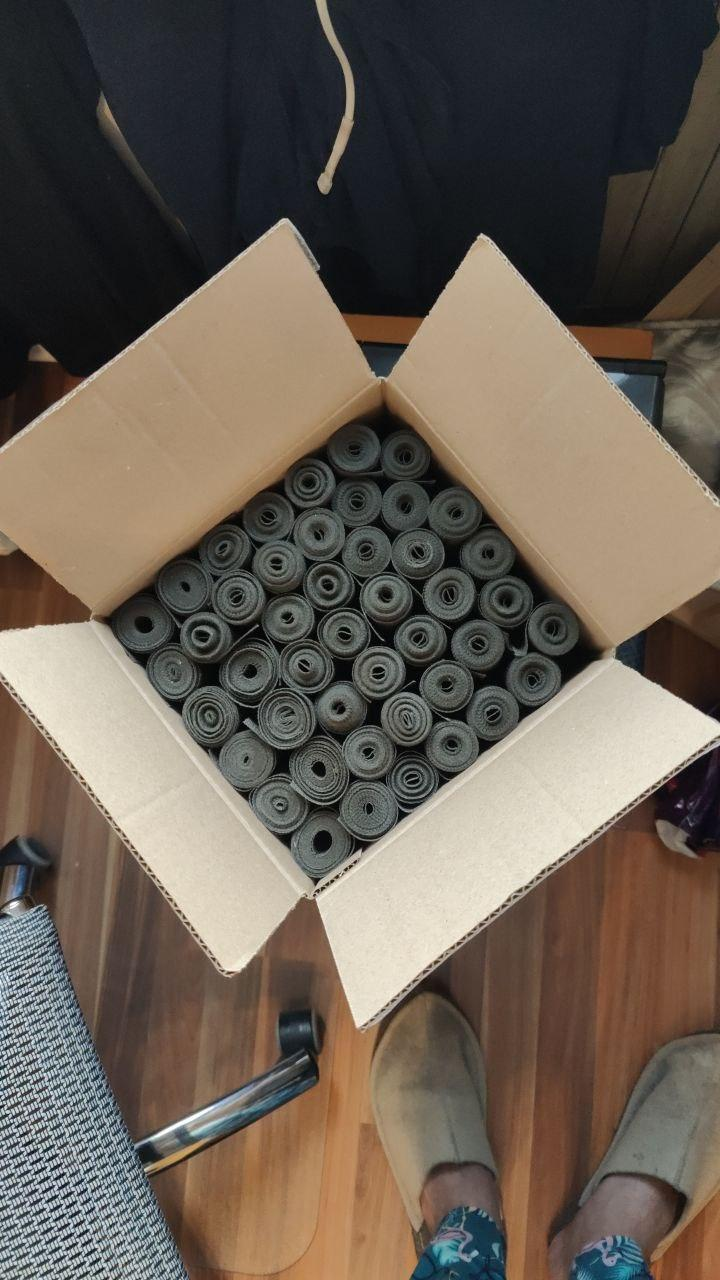roll: (290, 811, 356, 882), (110, 593, 177, 659), (287, 736, 351, 805), (337, 776, 401, 842), (215, 725, 277, 793), (255, 685, 319, 750), (179, 684, 240, 751), (220, 642, 282, 706), (249, 776, 311, 838), (504, 651, 565, 713), (154, 557, 215, 619), (524, 598, 584, 661), (420, 567, 480, 629), (449, 618, 509, 679), (340, 721, 399, 783), (144, 642, 202, 705), (350, 644, 410, 704), (476, 574, 536, 634), (426, 485, 486, 545), (458, 526, 519, 585), (464, 684, 522, 746), (387, 752, 445, 814), (378, 690, 437, 750), (358, 569, 417, 629), (389, 526, 448, 586), (210, 569, 268, 630), (418, 659, 477, 718), (392, 613, 451, 671), (177, 609, 235, 668), (278, 638, 336, 697), (313, 680, 370, 740), (423, 718, 481, 776), (316, 606, 374, 664), (325, 421, 383, 479), (250, 537, 307, 596), (260, 592, 318, 649), (241, 488, 298, 545), (197, 521, 253, 578), (380, 479, 435, 537), (302, 559, 358, 615), (340, 523, 395, 580), (291, 507, 346, 564), (379, 428, 434, 484), (283, 457, 337, 513), (332, 476, 385, 530)
